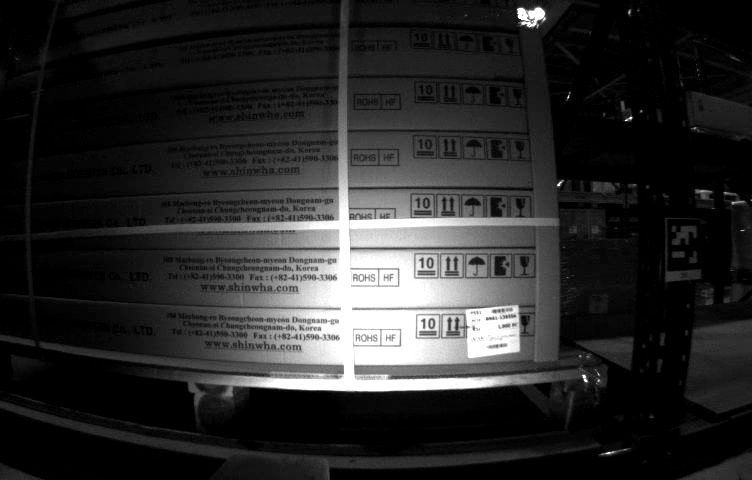True Barcode: (466, 304, 522, 358)
